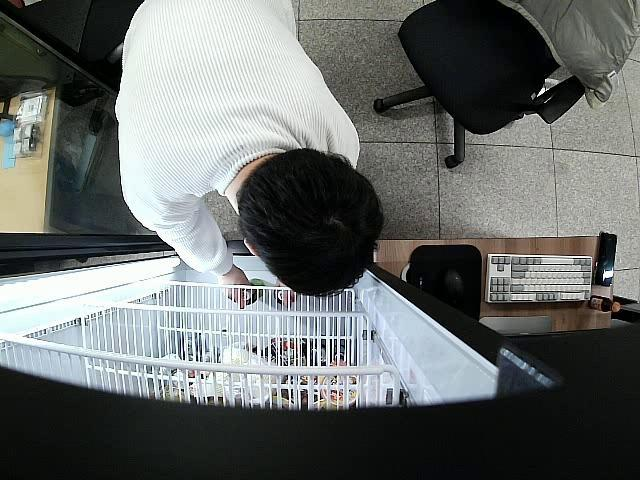19_17cha: (240, 278, 267, 306)
